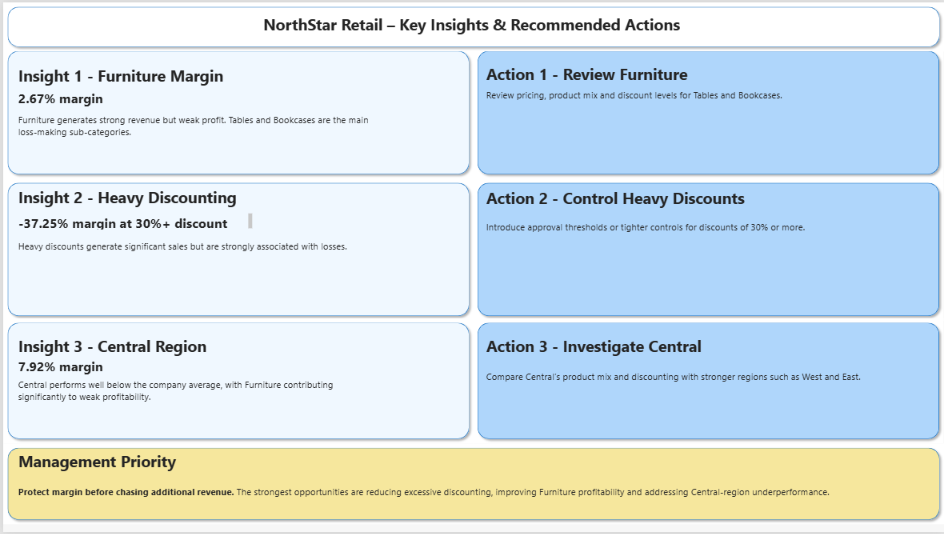

The page's visual inventory and layout, read from the dashboard file:
{"tool":"powerbi","page":{"name":"Insights & Recommendations","canvas":[1920,1080],"ordinal":1},"visuals":[{"type":"shape","box":[0,90,960,270],"z":0},{"type":"shape","box":[0,360,960,290],"z":1000},{"type":"shape","box":[0,645,960,255],"z":2000},{"type":"shape","box":[960,90,960,270],"z":3000},{"type":"shape","box":[960,360,960,290],"z":4000},{"type":"shape","box":[960,645,960,255],"z":5000},{"type":"shape","box":[0,0,1920,100],"z":6000},{"type":"textbox","box":[111.4,100,288.6,274.3],"z":7000},{"type":"textbox","box":[530,23.3,910,66.7],"z":8000},{"type":"textbox","box":[30,126.7,500,100],"z":9000},{"type":"textbox","box":[30,176.7,226.7,103.3],"z":10000},{"type":"textbox","box":[30,227.5,737.5,102.5],"z":11000},{"type":"textbox","box":[30,375,500,107.5],"z":12000},{"type":"textbox","box":[30,430,477.5,32.5],"z":13000},{"type":"textbox","box":[30,483.3,736.7,166.7],"z":14000},{"type":"textbox","box":[30,680,450,87.5],"z":15000},{"type":"textbox","box":[30,724.3,370,48.6],"z":16000},{"type":"textbox","box":[30,767.1,737.1,132.9],"z":17000},{"type":"textbox","box":[985,125,514,66],"z":18000},{"type":"textbox","box":[985,175,780,105],"z":19000},{"type":"textbox","box":[986.7,376.7,646.7,70],"z":20000},{"type":"textbox","box":[985,445,775,160],"z":21000},{"type":"textbox","box":[985,680,645,155],"z":22000},{"type":"textbox","box":[985,750,780,330],"z":23000},{"type":"shape","box":[0,900,1920,165],"z":24000},{"type":"textbox","box":[30,915,860,70],"z":25000},{"type":"textbox","box":[30,985,1790,80],"z":26000}]}

Visuals, with their boxes in screenshot pixels (x1, y1, x2, y2), scaled from the page's 1920x1080 canvas onto the 944x534 screenshot:
shape: (0,44,472,178)
shape: (0,178,472,321)
shape: (0,319,472,445)
shape: (472,44,943,178)
shape: (472,178,943,321)
shape: (472,319,943,445)
shape: (0,0,943,49)
textbox: (55,49,197,185)
textbox: (261,12,708,44)
textbox: (15,63,261,112)
textbox: (15,87,126,138)
textbox: (15,112,377,163)
textbox: (15,185,261,239)
textbox: (15,213,250,229)
textbox: (15,239,377,321)
textbox: (15,336,236,379)
textbox: (15,358,197,382)
textbox: (15,379,377,445)
textbox: (484,62,737,94)
textbox: (484,87,868,138)
textbox: (485,186,803,221)
textbox: (484,220,865,299)
textbox: (484,336,801,413)
textbox: (484,371,868,533)
shape: (0,445,943,527)
textbox: (15,452,438,487)
textbox: (15,487,895,527)
